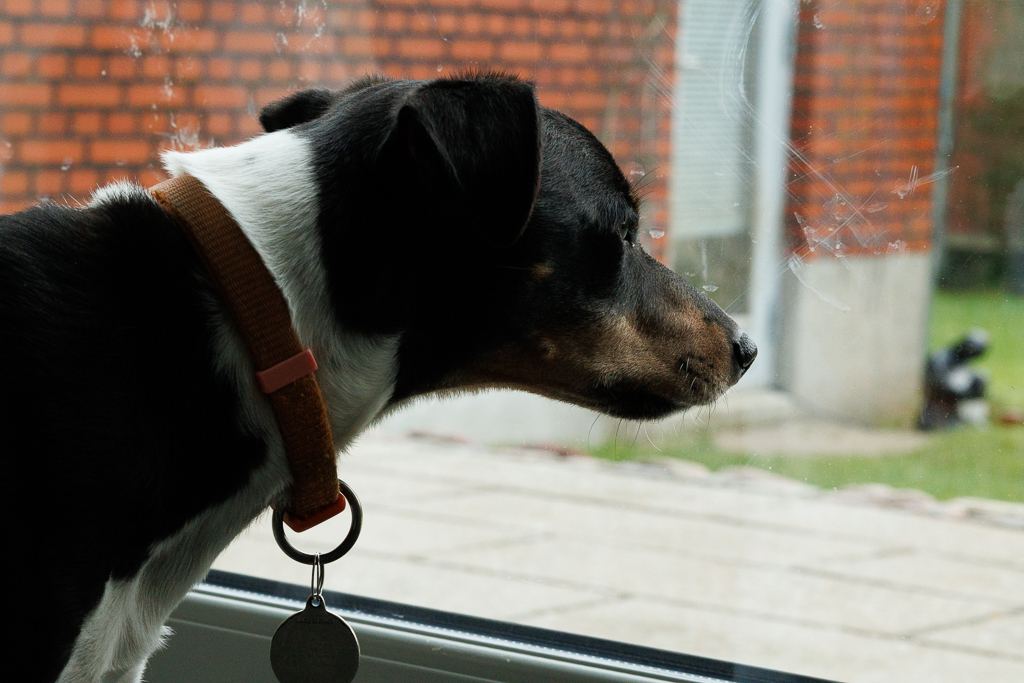Dog: (0, 62, 772, 683)
Humanoid: (901, 313, 1013, 444)
